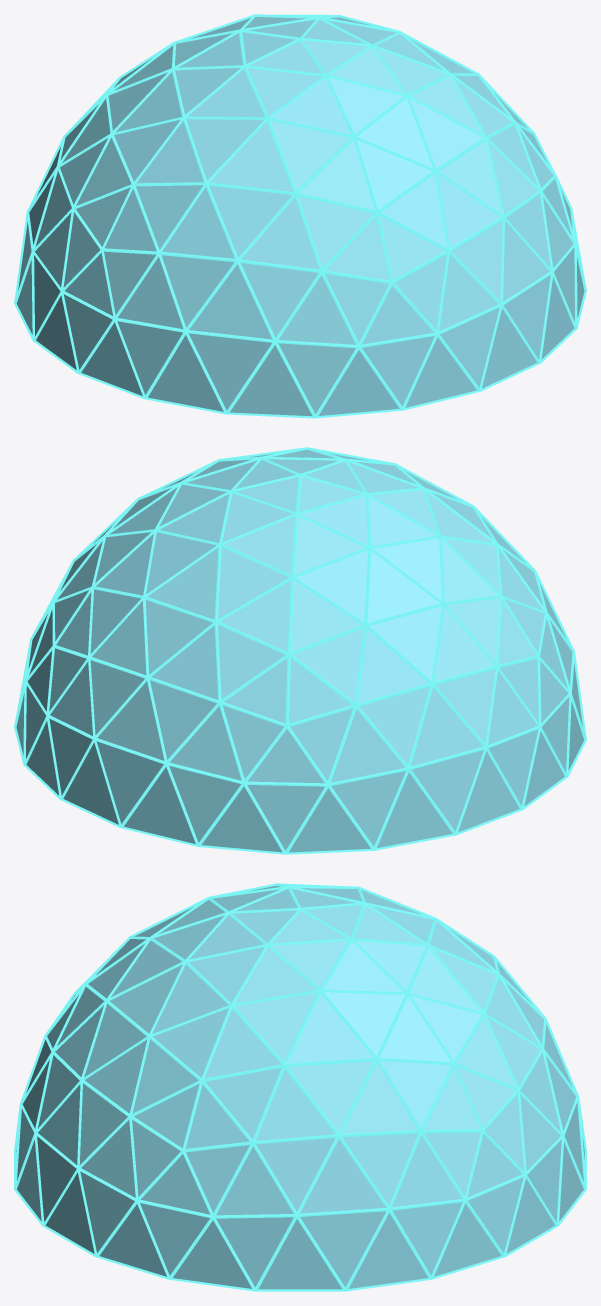
File: techshield_noanimation.glb
3 views of the same model, one above another, from view 1: azimuth 30°, elevation 25°; view 2: azimuth 150°, elevation 25°; view 3: azimuth 270°, elevation 25° (orthographic).
Parts seen in each view (by area): view 1: Icosphere.001; view 2: Icosphere.001; view 3: Icosphere.001.
Boxes of the visible parts, box(x1,y1,x2,y2) form: Icosphere.001: box(14, 14, 586, 418); Icosphere.001: box(14, 447, 586, 854); Icosphere.001: box(14, 883, 586, 1291).
Size of the model in its own units: 7.53 by 3.81 by 7.53.
